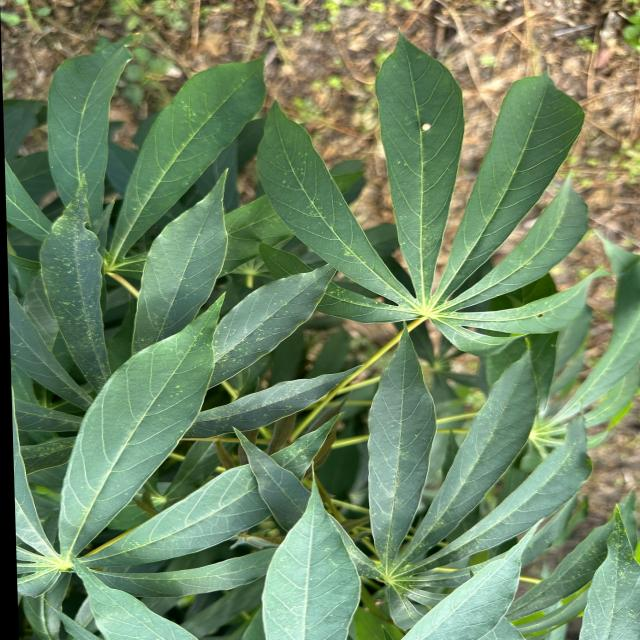Mosca: (139, 466, 189, 521), (200, 452, 232, 494), (420, 102, 442, 148)
